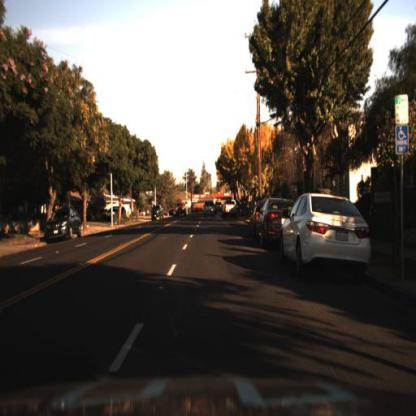car: (278, 192, 374, 274), (255, 194, 292, 247), (42, 203, 82, 243), (220, 199, 238, 221), (200, 198, 217, 219), (173, 197, 188, 220), (150, 201, 164, 224), (150, 204, 165, 220)
